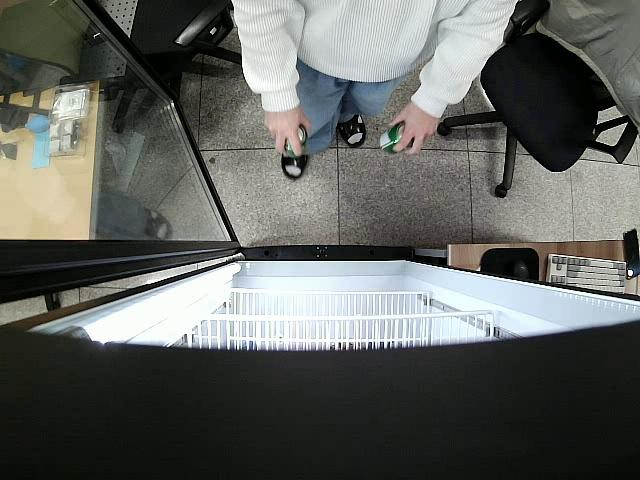00_hand: (389, 110, 438, 157), (265, 110, 311, 158)
12_chilsungCider: (377, 121, 413, 158), (284, 121, 308, 159)
